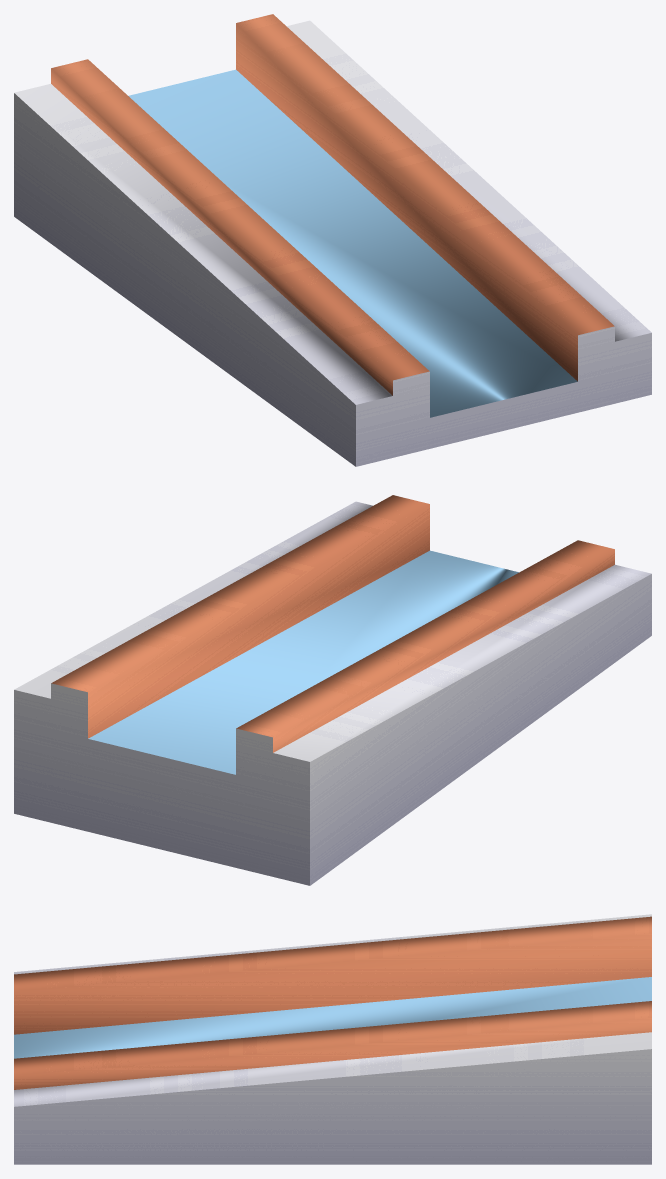
File: snow-tile-river-slope-large.glb
3 renders of one model, top to bottom at view 1: azimuth 30°, elevation 25°; view 2: azimuth 150°, elevation 25°; view 3: azimuth 270°, elevation 25°, orthographic. The views are drawn at different scales.
Parts seen in each view (by area): view 1: snow-tile-river-slope-large; view 2: snow-tile-river-slope-large; view 3: snow-tile-river-slope-large.
Boxes of the visible parts, left/top/right/bottom form: snow-tile-river-slope-large: left=14, top=14, right=651, bottom=466; snow-tile-river-slope-large: left=14, top=495, right=651, bottom=885; snow-tile-river-slope-large: left=14, top=914, right=651, bottom=1164.
Bounding box in the file's own units: 1 × 0.45 × 2.
Materials: 1 (1 with a texture image).
